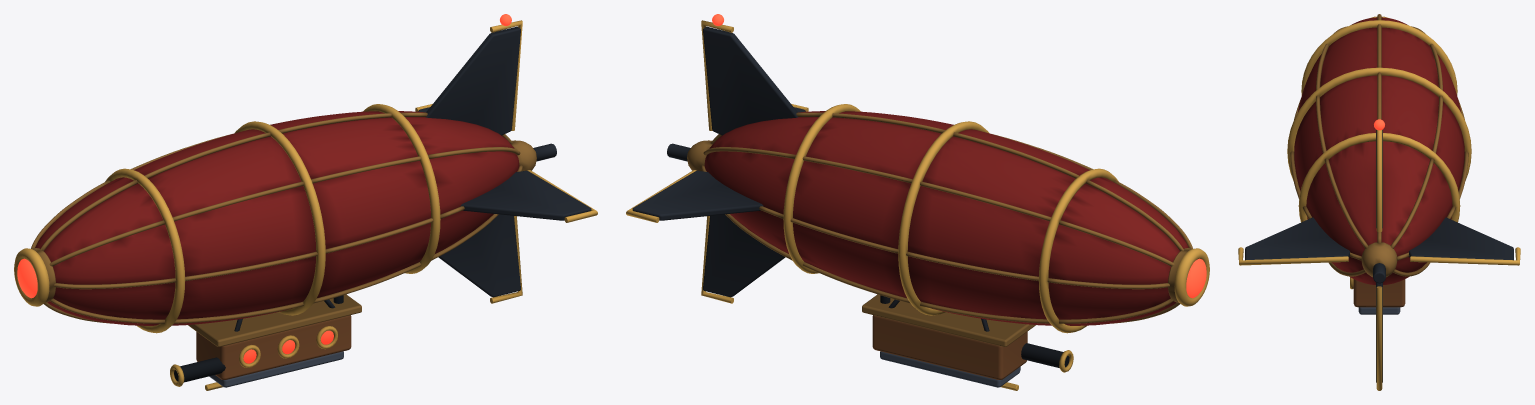
The model's file is zeppelin.glb.
3 views of the same model, side by side, from view 1: azimuth 30°, elevation 25°; view 2: azimuth 150°, elevation 25°; view 3: azimuth 270°, elevation 25° (orthographic). The views are drawn at different scales.
Visible parts, largest first — view 1: Body, Lantern; view 2: Body, Lantern; view 3: Body.
Boxes of the visible parts, box(x1,y1,x2,y2) form: Body: box(31, 14, 597, 390); Lantern: box(14, 248, 55, 306); Body: box(626, 14, 1192, 390); Lantern: box(1168, 248, 1209, 306); Body: box(1238, 14, 1520, 390).
Size of the model in its own units: 2.2 by 1.2 by 1.09.
